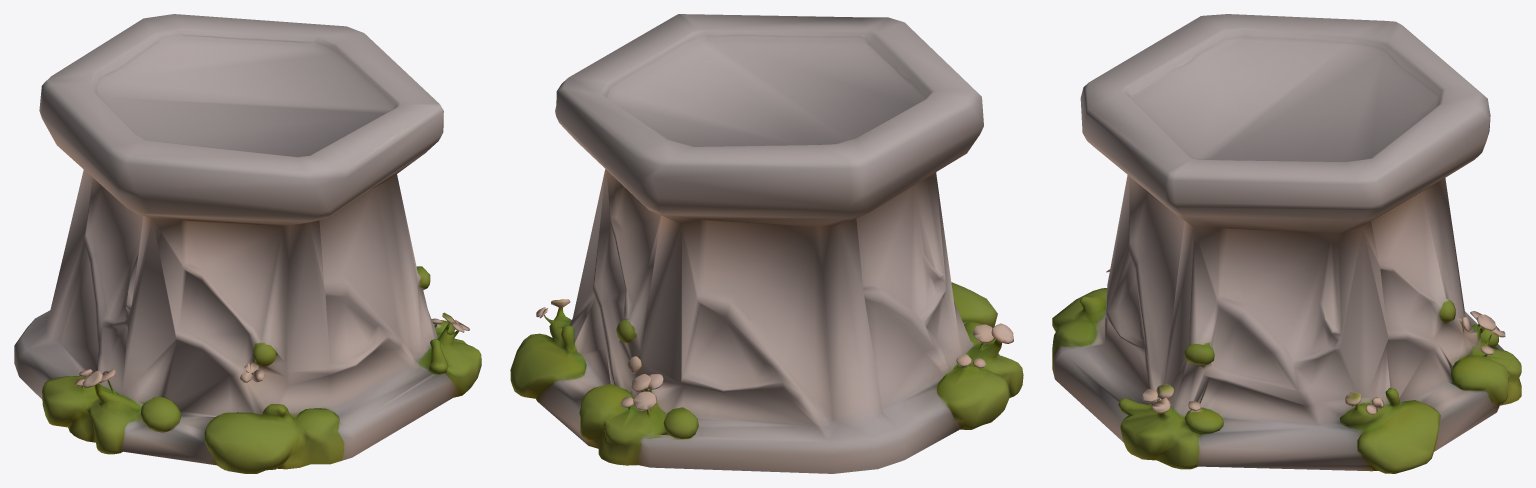
3 renders of one model, left to right at view 1: azimuth 30°, elevation 25°; view 2: azimuth 150°, elevation 25°; view 3: azimuth 270°, elevation 25°, orthographic. The views are drawn at different scales.
Parts seen in each view (by area): view 1: tripo_node_b8bc24bd-7f68-4c5f-81b0-61ba18eb564d; view 2: tripo_node_b8bc24bd-7f68-4c5f-81b0-61ba18eb564d; view 3: tripo_node_b8bc24bd-7f68-4c5f-81b0-61ba18eb564d.
Boxes of the visible parts, x1,y1,x2,y2 form: tripo_node_b8bc24bd-7f68-4c5f-81b0-61ba18eb564d: (14,14,481,473); tripo_node_b8bc24bd-7f68-4c5f-81b0-61ba18eb564d: (510,14,1023,473); tripo_node_b8bc24bd-7f68-4c5f-81b0-61ba18eb564d: (1052,14,1521,473).
Bounding box in the file's own units: 0.998 × 0.6895 × 0.998.
1 material, 1 textured.
